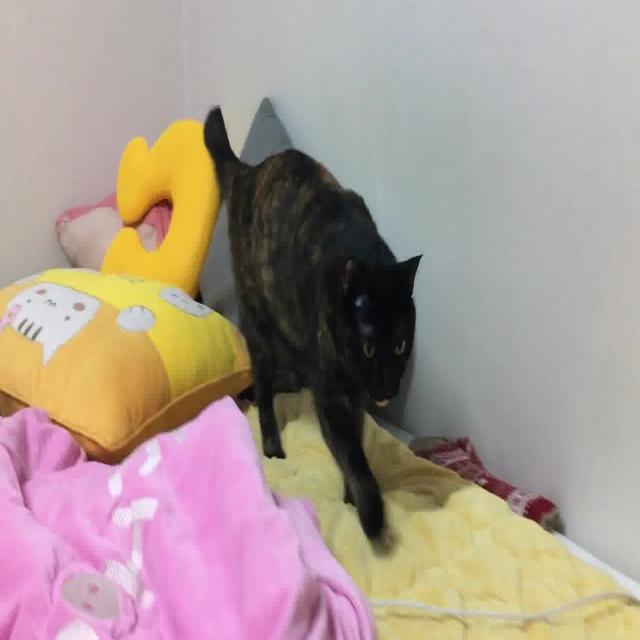cat: (202, 93, 422, 557)
